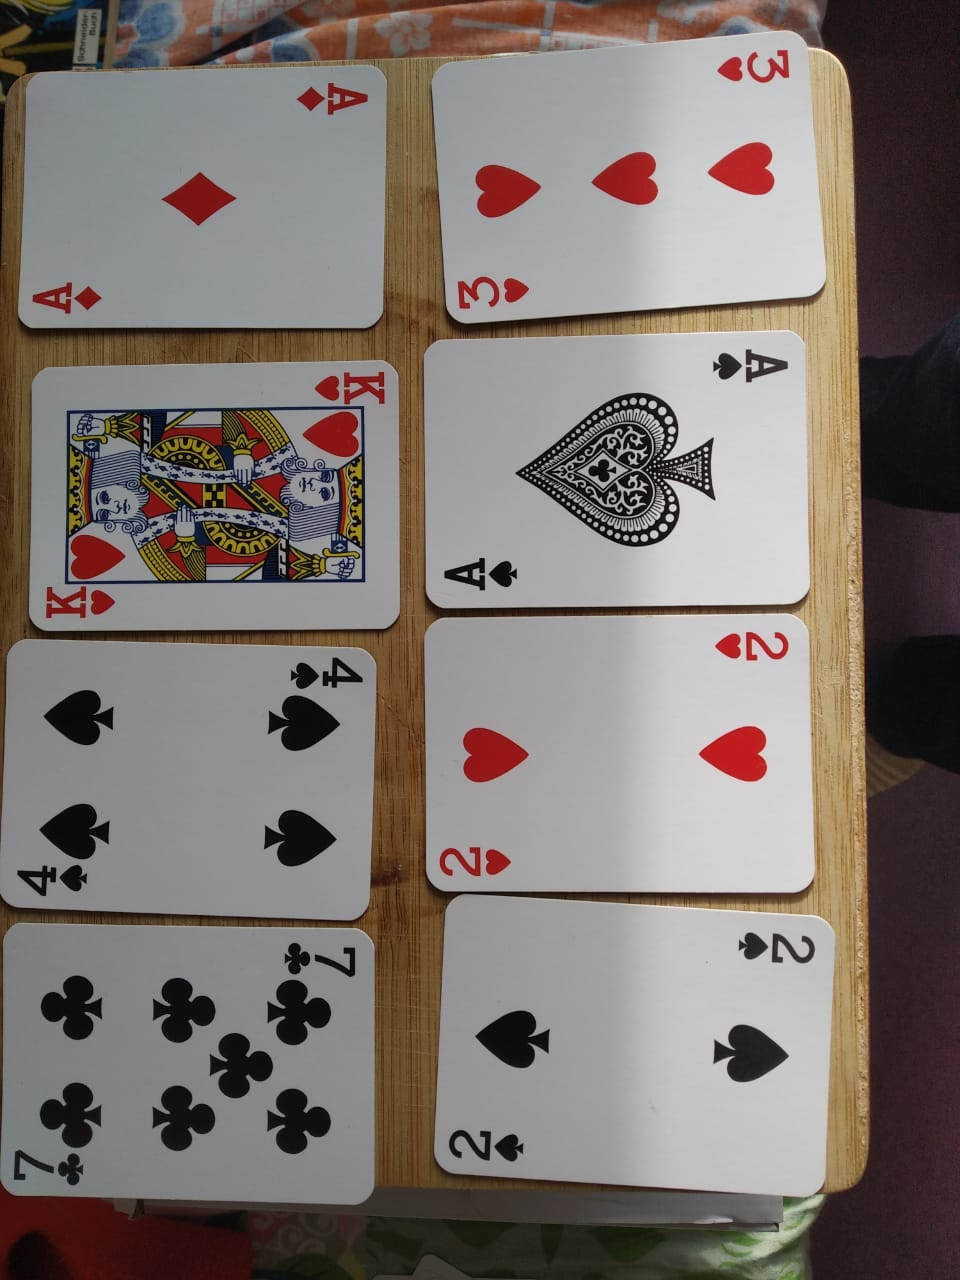ace: (416, 323, 856, 610), (12, 57, 412, 337)
four: (1, 630, 389, 925)
king: (11, 353, 411, 637)
seven: (1, 917, 403, 1225)
three: (416, 41, 836, 333)
two: (411, 888, 883, 1214), (405, 617, 848, 904)
